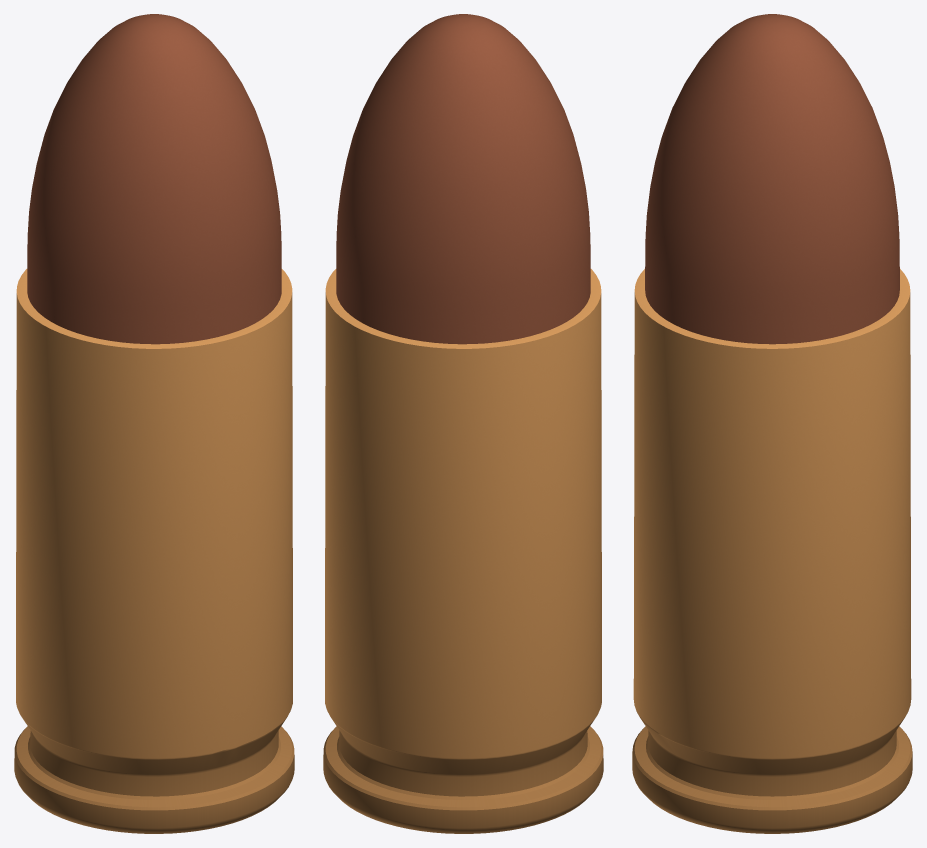
3 views of the same model, side by side, from view 1: azimuth 30°, elevation 25°; view 2: azimuth 150°, elevation 25°; view 3: azimuth 270°, elevation 25° (orthographic).
Parts seen in each view (by area): view 1: Case_Baked, Bullet_Baked; view 2: Case_Baked, Bullet_Baked; view 3: Case_Baked, Bullet_Baked.
Boxes of the visible parts, x1,y1,x2,y2 form: Case_Baked: (14,269,294,833); Bullet_Baked: (27,14,281,344); Case_Baked: (323,269,603,833); Bullet_Baked: (336,14,590,344); Case_Baked: (632,269,912,833); Bullet_Baked: (645,14,899,344).
Size of the model in its own units: 121 by 362 by 121.
